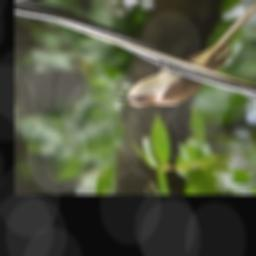Cuckoo: (116, 0, 256, 108)
